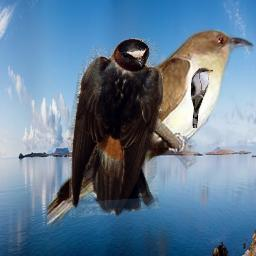Cuckoo: (47, 27, 254, 227), (190, 67, 213, 128)
Swallow: (69, 38, 163, 217)
